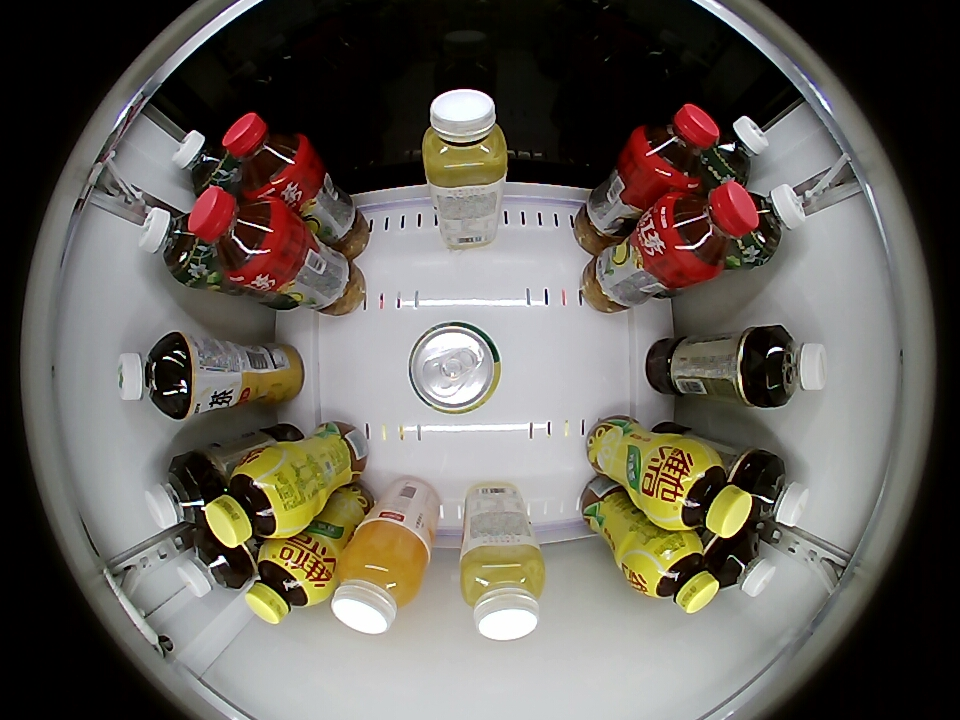binghongcha: (186, 187, 289, 289), (654, 181, 759, 281), (221, 111, 313, 199), (630, 103, 720, 190)
chapai2: (422, 89, 508, 189), (460, 542, 546, 641)
damaicha: (116, 331, 194, 420)
moliqingcha: (139, 207, 207, 282), (743, 184, 807, 263), (710, 116, 769, 185), (173, 130, 234, 194)
weic: (331, 521, 431, 634)
weitaningmeng-bottle: (655, 445, 754, 539), (203, 453, 299, 548), (633, 533, 720, 615), (245, 542, 328, 625)
wulongcha: (752, 325, 829, 408), (145, 456, 212, 530), (744, 454, 810, 529), (177, 531, 247, 598), (712, 530, 776, 598)
xuebi2: (407, 322, 503, 414)
